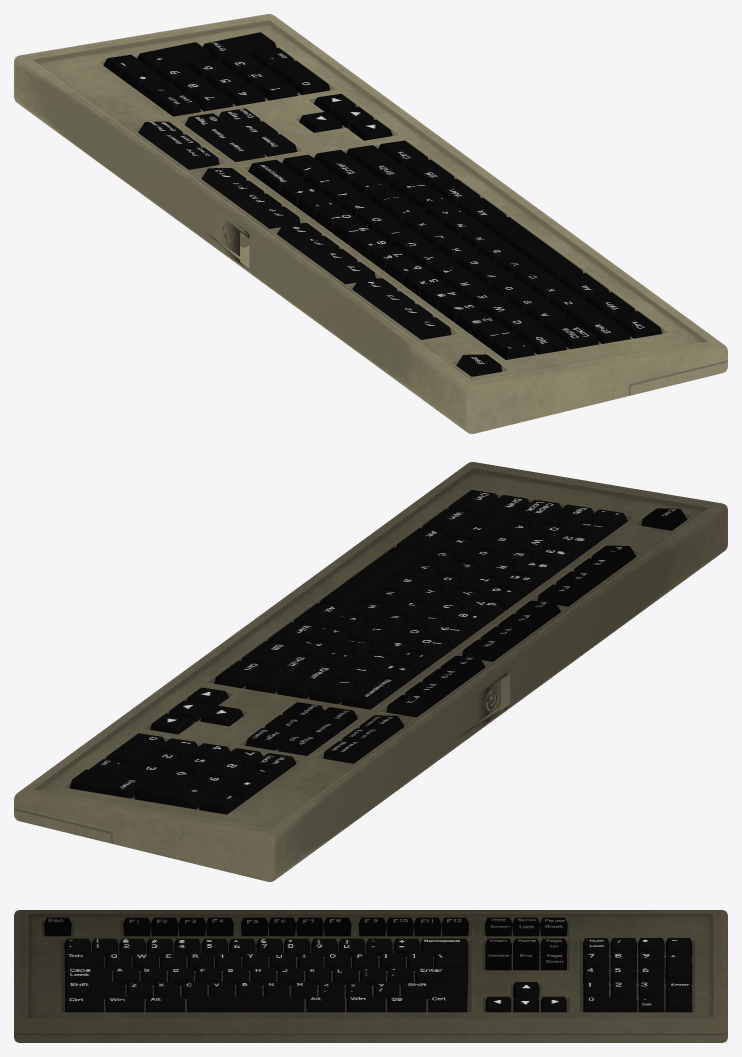
Rendered from keyboard.glb.
3 views of the same model, one above another, from view 1: azimuth 30°, elevation 25°; view 2: azimuth 150°, elevation 25°; view 3: azimuth 270°, elevation 25° (orthographic). The views are drawn at different scales.
Parts seen in each view (by area): view 1: PC.001, space, sgift, shift, +2, enter2, 0, capsLock, backspace, enter, tab, ctrl2 (+14 smaller); view 2: PC.001, space, +2, sgift, enter2, backspace, enter, shift, 0, capsLock, ctrl, \ (+12 smaller); view 3: PC.001, space, sgift, 0, shift, enter2, +2, enter, backspace, capsLock, ctrl, sb (+84 smaller).
Part boxes in pixels (<box>): PC.001: <box>14,14,727,433</box>; space: <box>483,217,582,280</box>; sgift: <box>346,145,414,185</box>; shift: <box>566,306,630,343</box>; +2: <box>137,42,211,71</box>; enter2: <box>203,32,276,61</box>; 0: <box>269,60,330,94</box>; capsLock: <box>542,317,598,349</box>; backspace: <box>248,159,304,193</box>; enter: <box>314,150,373,184</box>; tab: <box>515,325,566,354</box>; ctrl2: <box>611,311,662,338</box>; PC.001: <box>14,462,727,881</box>; space: <box>319,547,419,611</box>; +2: <box>134,779,209,809</box>; sgift: <box>245,652,314,693</box>; enter2: <box>69,769,143,798</box>; backspace: <box>341,676,399,709</box>; enter: <box>277,664,337,698</box>; shift: <box>466,495,529,531</box>; 0: <box>105,733,165,767</box>; capsLock: <box>506,499,561,530</box>; ctrl: <box>214,660,264,688</box>; \: <box>309,678,356,704</box>; PC.001: <box>14,910,727,1042</box>; space: <box>187,996,304,1012</box>; sgift: <box>401,982,467,999</box>; 0: <box>583,996,637,1012</box>; shift: <box>65,982,125,999</box>; enter2: <box>665,982,692,1012</box>; +2: <box>665,952,692,984</box>; enter: <box>415,967,468,984</box>; backspace: <box>420,938,468,956</box>; capsLock: <box>65,967,111,984</box>; ctrl: <box>428,996,467,1012</box>; sb: <box>387,996,426,1012</box>.
Bounding box in the file's own units: 0.1531 × 0.0276 × 0.4585.
Materials: 1 (1 with a texture image).
